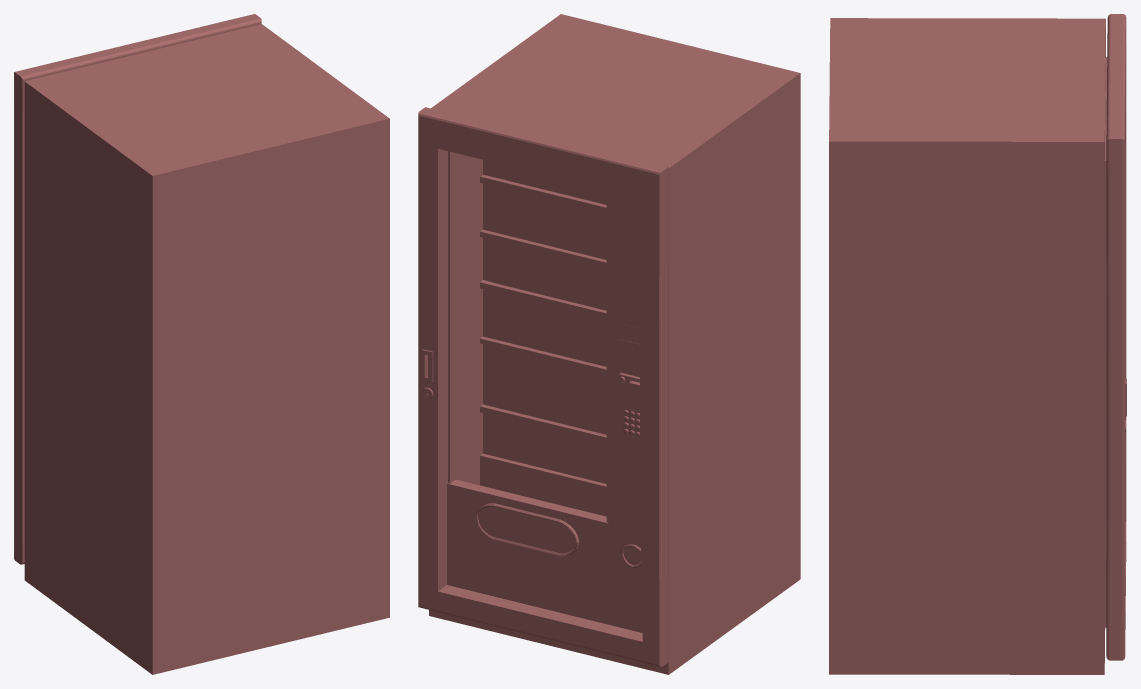
Rendered from vending machine New.fbx.
3 renders of one model, left to right at view 1: azimuth 30°, elevation 25°; view 2: azimuth 150°, elevation 25°; view 3: azimuth 270°, elevation 25°, orthographic. The views are drawn at different scales.
Visible parts, largest first — view 1: VendingMachine; view 2: VendingMachine; view 3: VendingMachine.
Part boxes in pixels (x1,y1,x2,y2): VendingMachine: (14, 14, 389, 674); VendingMachine: (418, 14, 800, 674); VendingMachine: (829, 14, 1126, 674).
Bounding box in the file's own units: 203 × 406 × 204.
